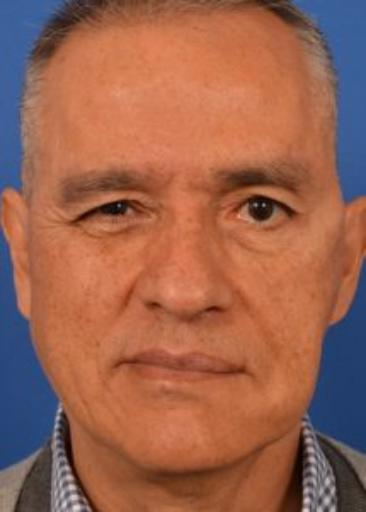left_eye: (222, 192, 298, 232)
left_lip_corner: (236, 364, 253, 378)
right_eye: (71, 199, 152, 229)
right_lip_corner: (112, 355, 131, 371)
